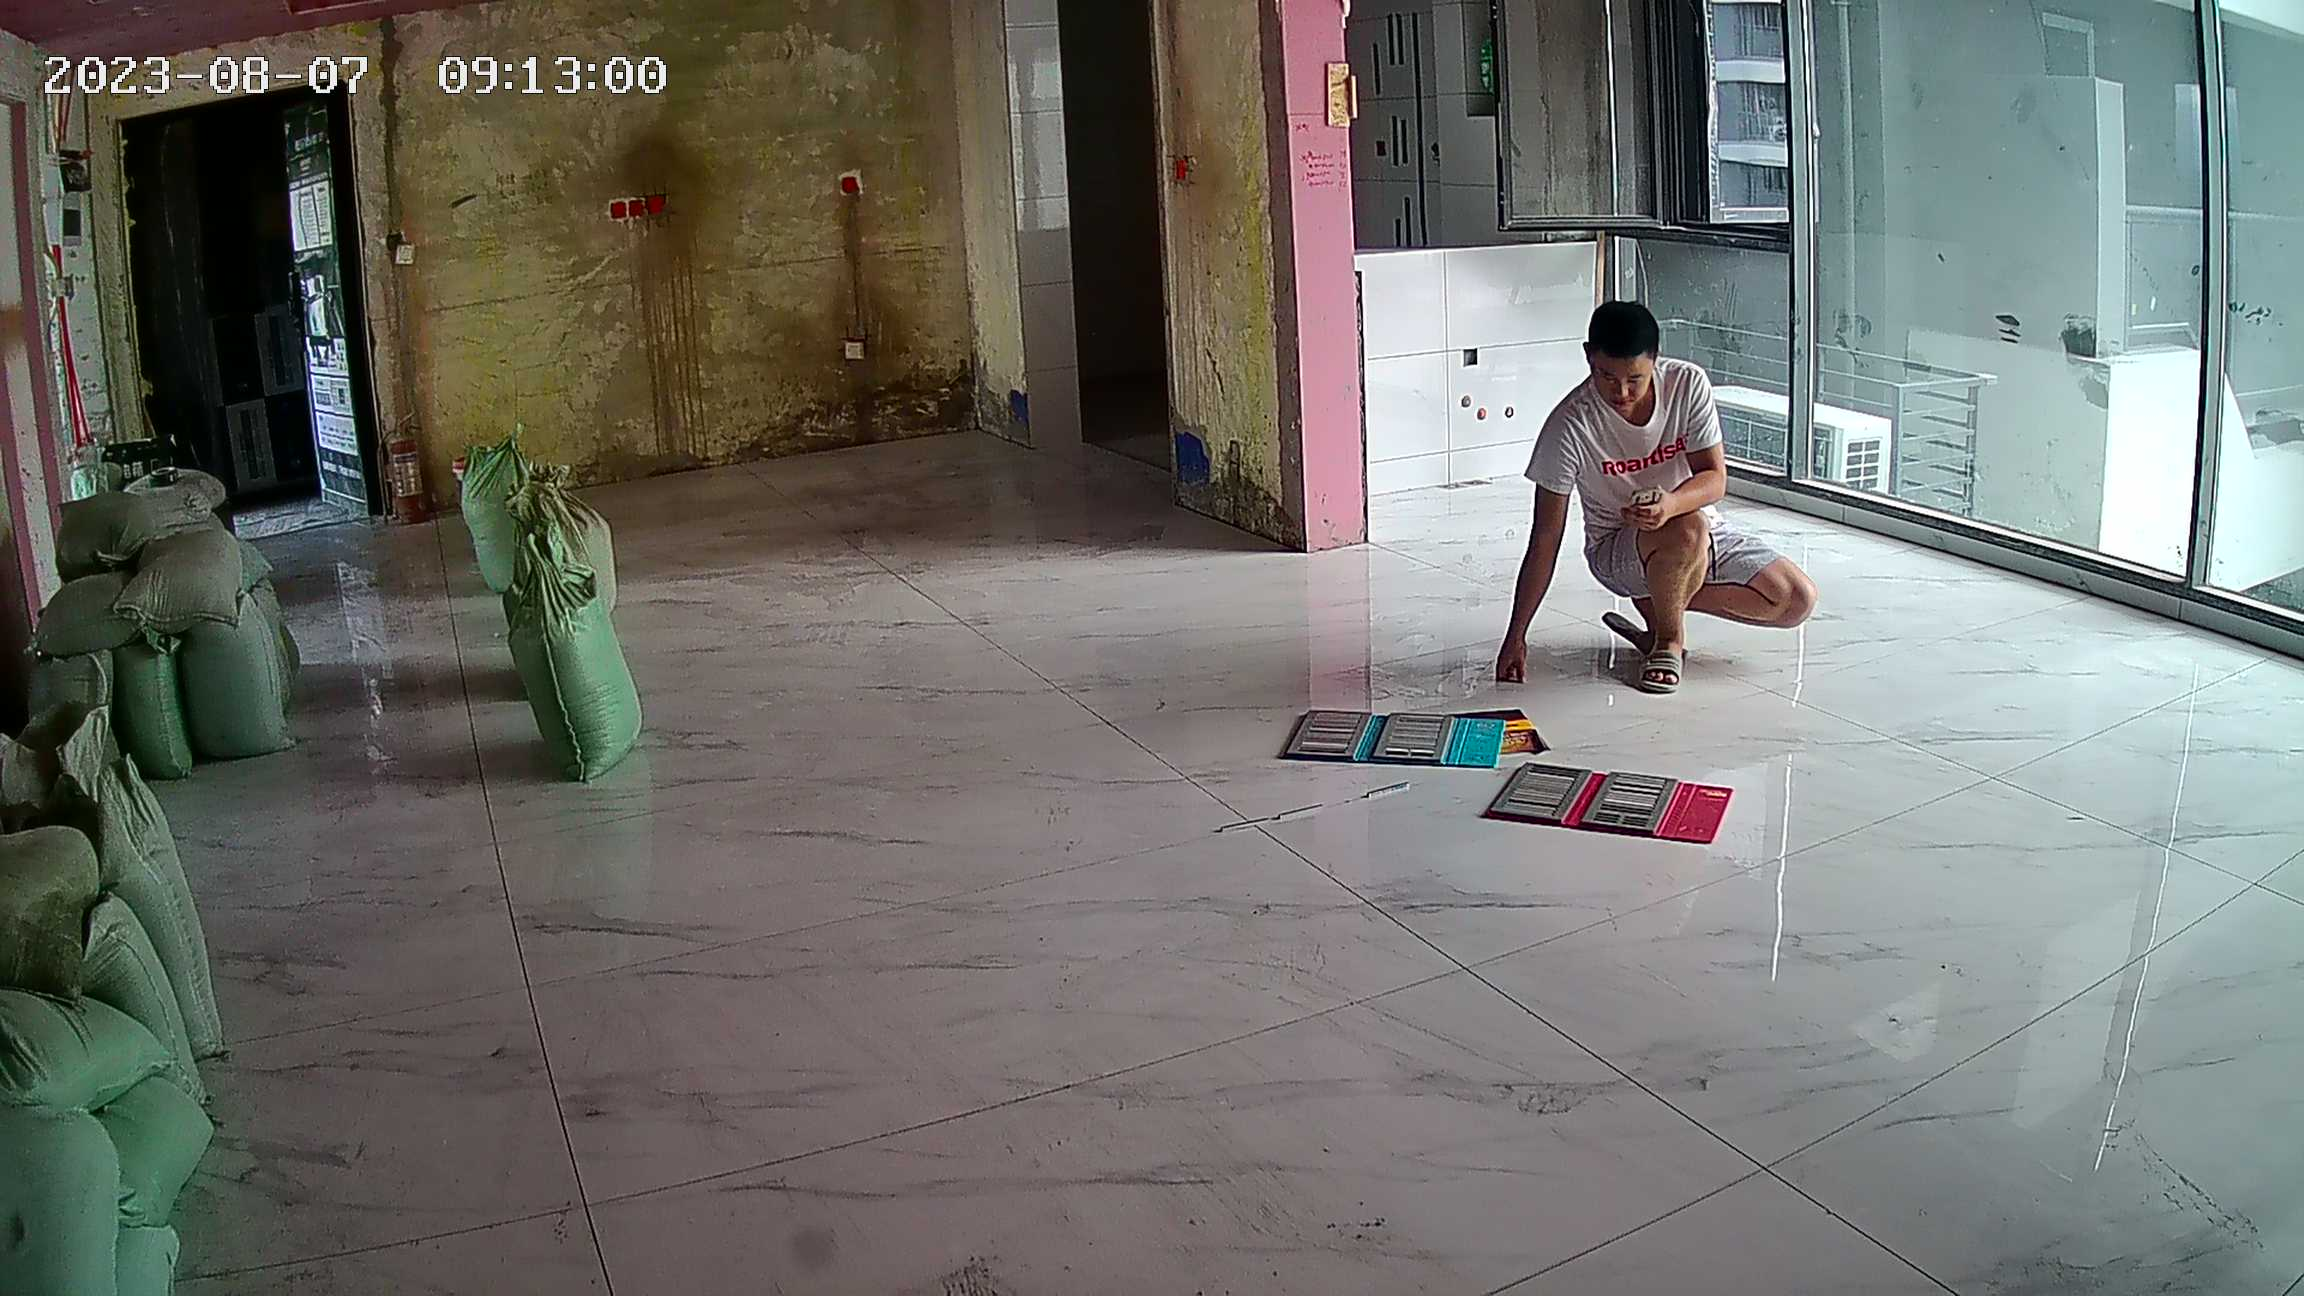people: (1498, 297, 1816, 691)
window: (1608, 5, 2304, 616)
